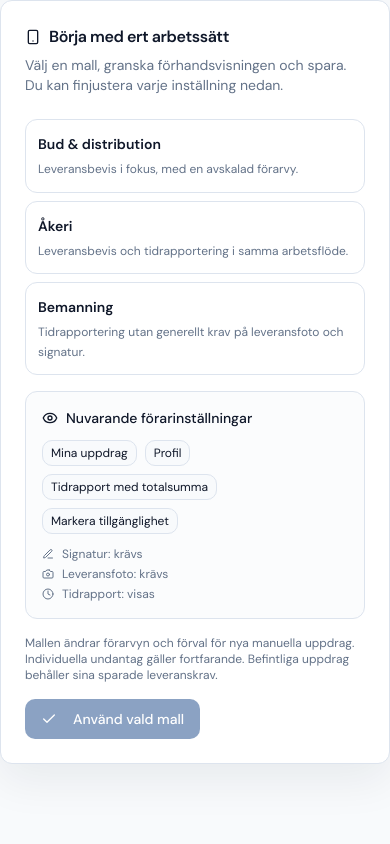
it: driver settings profiles › retains the choice if saving fails
What coordinates should you click on to do the following:
click the button "Bemanning"
I would click on:
 (195, 328)
Its box is 25,282 -> 365,375.
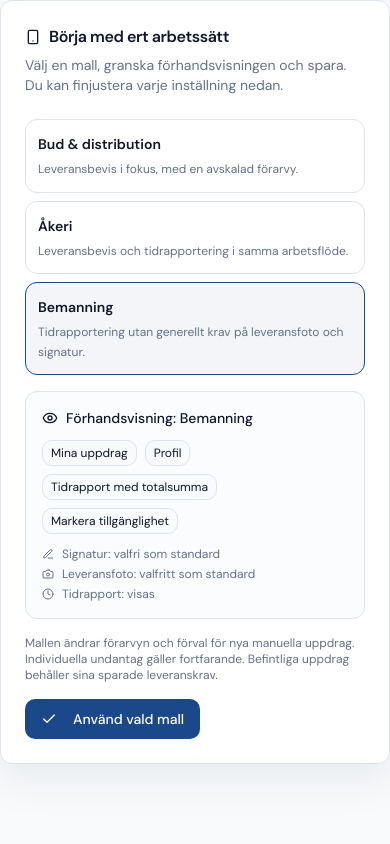
What coordinates should you click on to do the following:
click the button "Använd vald mall"
I would click on:
 (113, 719)
Its box is 25,699 -> 200,739.
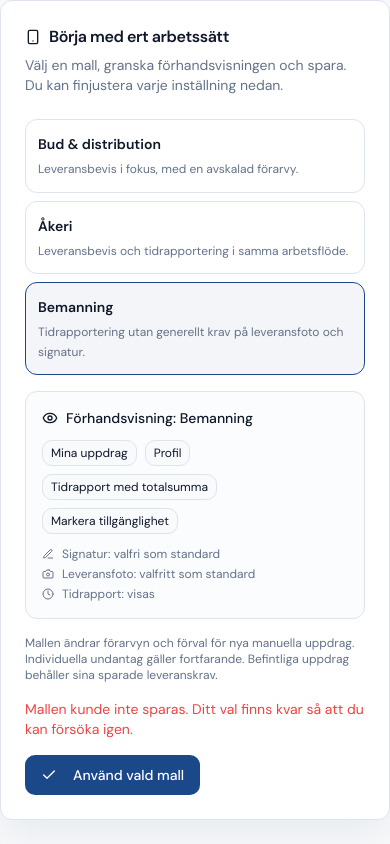
Expected: the message "Mallen kunde inte sparas. Ditt val finns kvar så att du kan försöka igen." is shown, 25,699 -> 365,739
